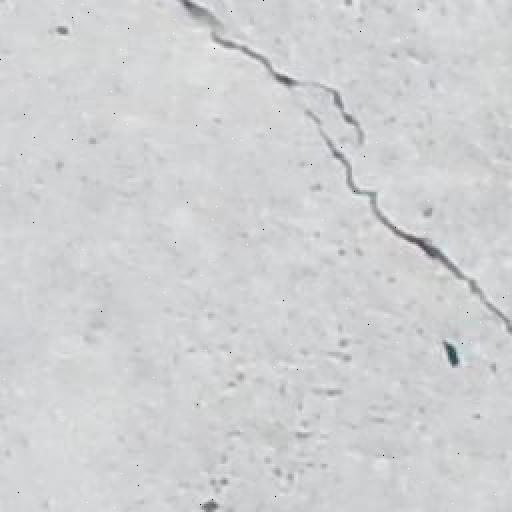spalling: (175, 8, 504, 361)
